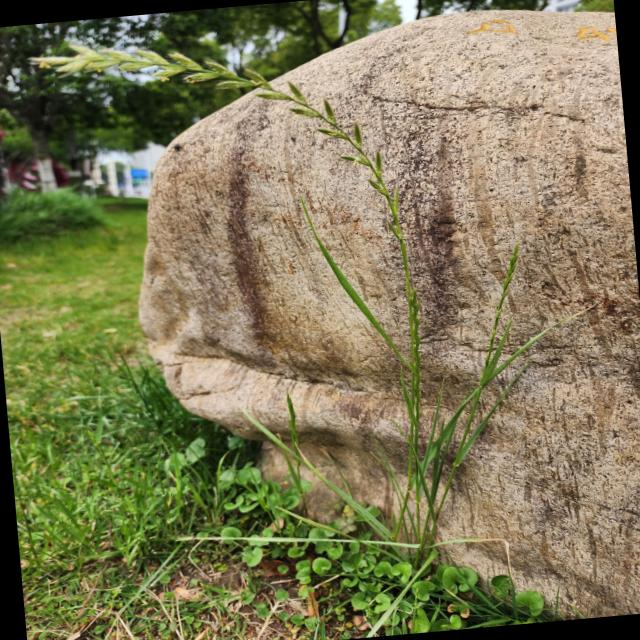Lolium: (30, 22, 411, 276)
